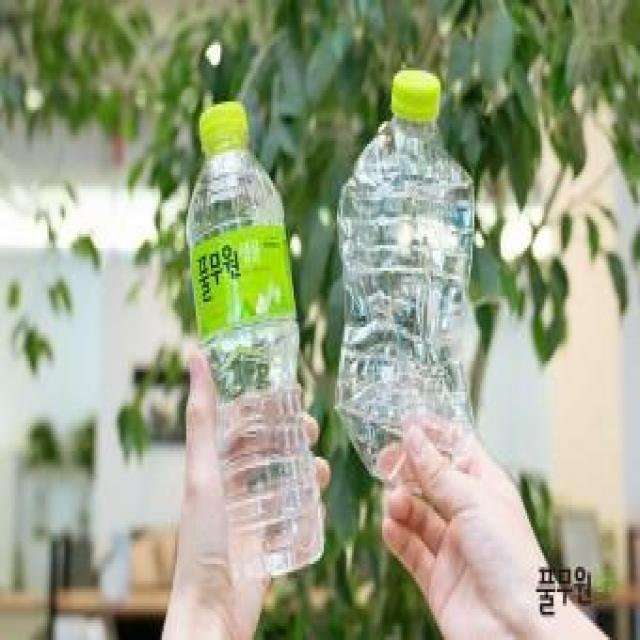bottle: (182, 92, 334, 595)
